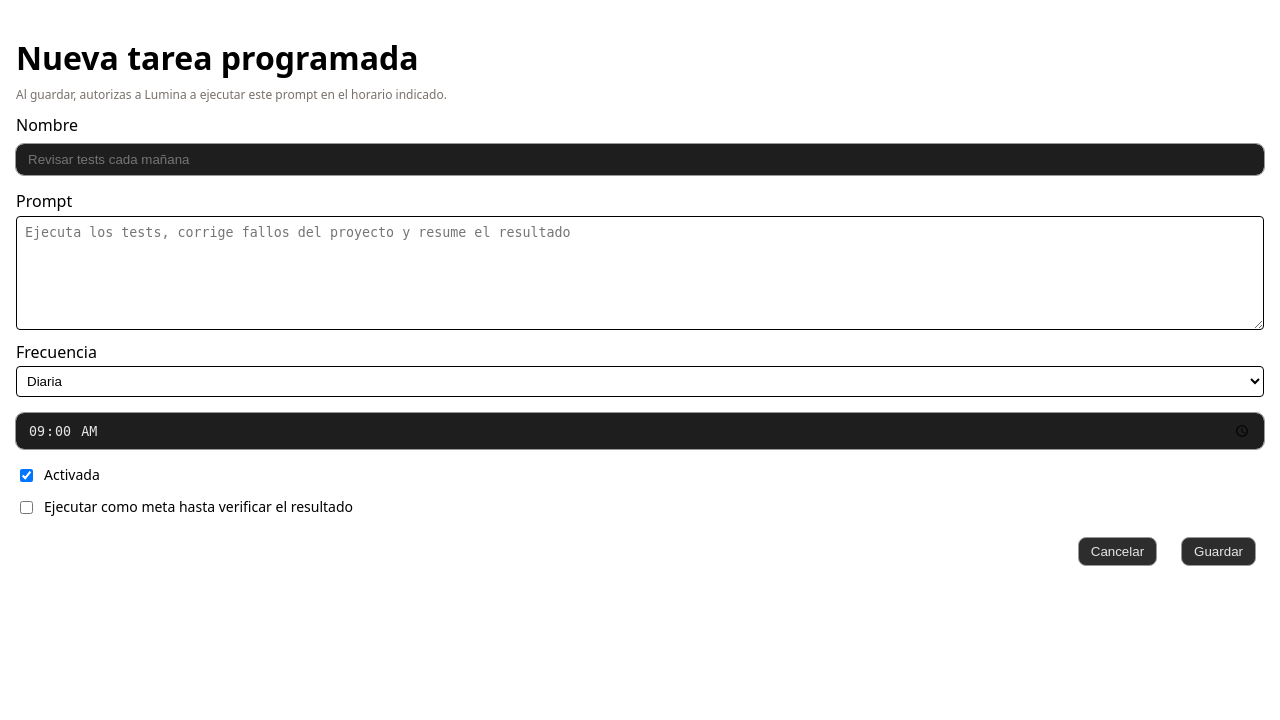
ScheduledTaskDialog › requires a name and prompt
The image size is (1280, 720).
Click the button "Guardar". click: (1219, 552)
box: [1181,537,1256,566]
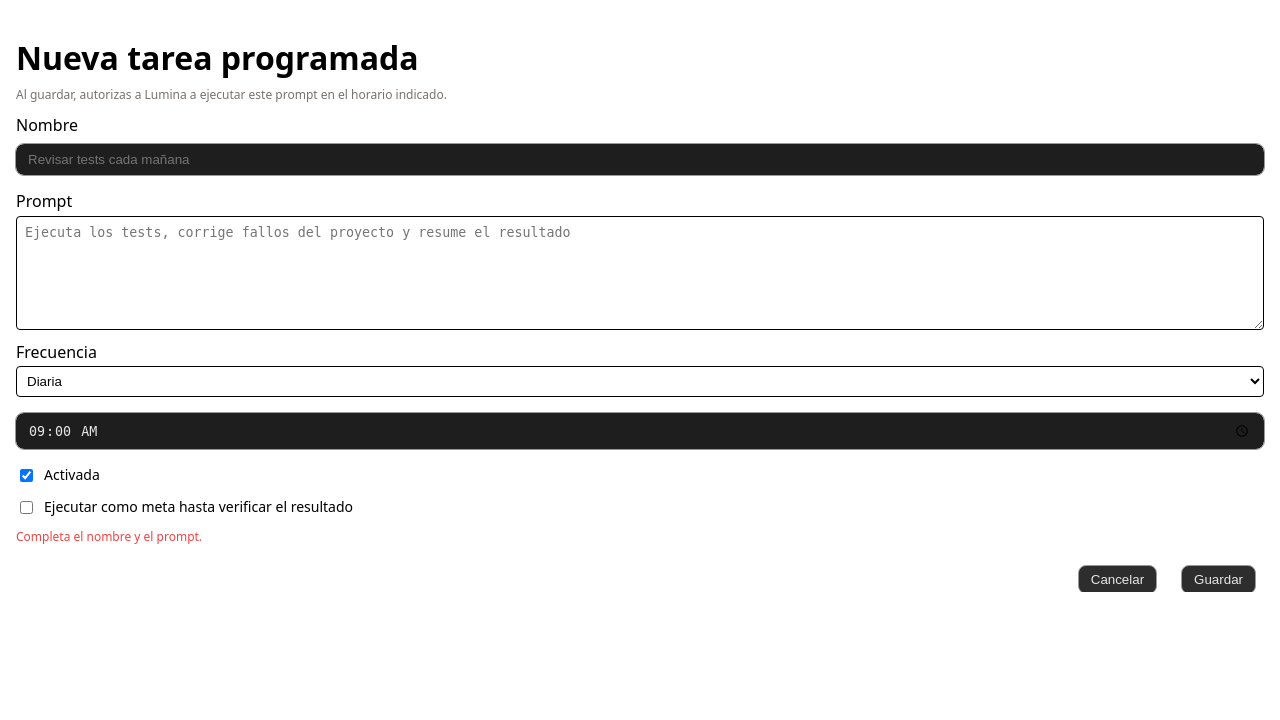
Expected: the text "Completa el nombre y el prompt." is shown, [16,528,202,545]
